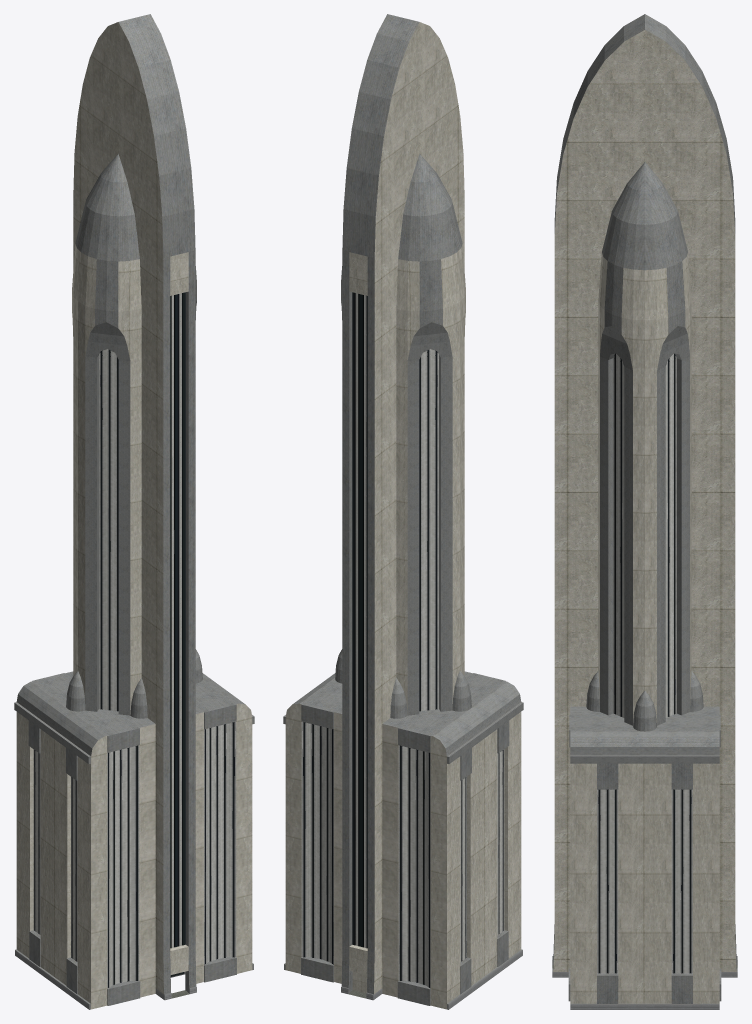
Rendered from thm_corl_skyskraper_s02_r0_mesh_l0.fbx.
3 views of the same model, side by side, from view 1: azimuth 30°, elevation 25°; view 2: azimuth 150°, elevation 25°; view 3: azimuth 270°, elevation 25° (orthographic).
Parts seen in each view (by area): view 1: mesh_node; view 2: mesh_node; view 3: mesh_node.
Part boxes in pixels (x1,y1,x2,y2): mesh_node: (14,14,254,1009); mesh_node: (283,14,523,1009); mesh_node: (552,14,737,1009).
Bounding box in the file's own units: 35.52 × 193 × 34.27.
